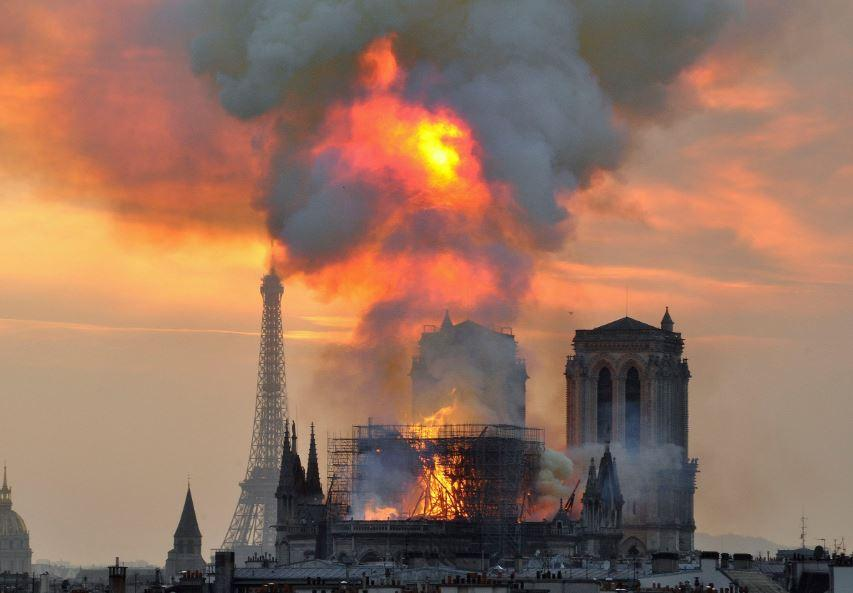Fire: (356, 377, 483, 539)
